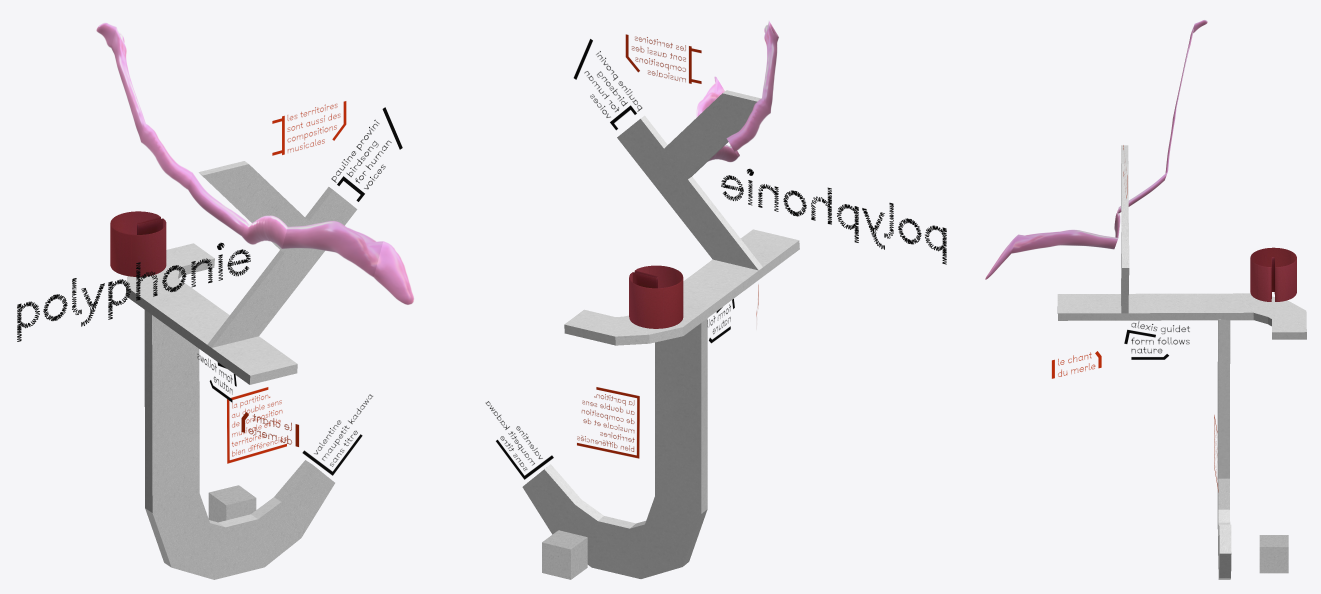
Rendered from Polyphonie.gltf.
The picture shows the model from 3 angles, left to right: view 1: azimuth 30°, elevation 25°; view 2: azimuth 150°, elevation 25°; view 3: azimuth 270°, elevation 25°; orthographic projection. The views are drawn at different scales.
Visible parts, largest first — view 1: Polyphonie, 3D_Pauline, 3D_Alexis, Titre_Polyphonie, 3D_Valentine, Cartel_Sonore_Valentine_VD, Cartel_pauline_provini, Cartel_Sonore_Pauline_VD, Cartel_valentine_maupetit; view 2: Polyphonie, 3D_Alexis, Titre_Polyphonie, 3D_Pauline, 3D_Valentine, Cartel_Sonore_Valentine_VD, Cartel_Sonore_Pauline_VD, Cartel_pauline_provini, Cartel_valentine_maupetit; view 3: Polyphonie, 3D_Pauline, 3D_Alexis, 3D_Valentine, Cartel_alexis_guidet.
Boxes of the visible parts, x1=… form: Polyphonie: x1=125, y1=161, x2=357, y2=579; 3D_Pauline: x1=96, y1=22, x2=413, y2=304; 3D_Alexis: x1=110, y1=211, x2=166, y2=276; Titre_Polyphonie: x1=17, y1=242, x2=250, y2=341; 3D_Valentine: x1=208, y1=485, x2=256, y2=522; Cartel_Sonore_Valentine_VD: x1=227, y1=387, x2=286, y2=463; Cartel_pauline_provini: x1=331, y1=107, x2=402, y2=201; Cartel_Sonore_Pauline_VD: x1=272, y1=101, x2=346, y2=155; Cartel_valentine_maupetit: x1=302, y1=394, x2=373, y2=475; Polyphonie: x1=522, y1=90, x2=799, y2=578; 3D_Alexis: x1=629, y1=265, x2=683, y2=328; Titre_Polyphonie: x1=721, y1=168, x2=946, y2=264; 3D_Pauline: x1=696, y1=21, x2=778, y2=162; 3D_Valentine: x1=542, y1=530, x2=587, y2=579; Cartel_Sonore_Valentine_VD: x1=577, y1=387, x2=639, y2=458; Cartel_Sonore_Pauline_VD: x1=625, y1=34, x2=701, y2=83; Cartel_pauline_provini: x1=573, y1=39, x2=642, y2=130; Cartel_valentine_maupetit: x1=485, y1=401, x2=553, y2=479; Polyphonie: x1=1057, y1=145, x2=1306, y2=579; 3D_Pauline: x1=985, y1=20, x2=1207, y2=279; 3D_Alexis: x1=1250, y1=247, x2=1296, y2=301; 3D_Valentine: x1=1259, y1=535, x2=1288, y2=573; Cartel_alexis_guidet: x1=1124, y1=321, x2=1189, y2=359.
Size of the model in its own units: 14.86 by 19.37 by 11.63.
Materials: 11 (11 with a texture image).
